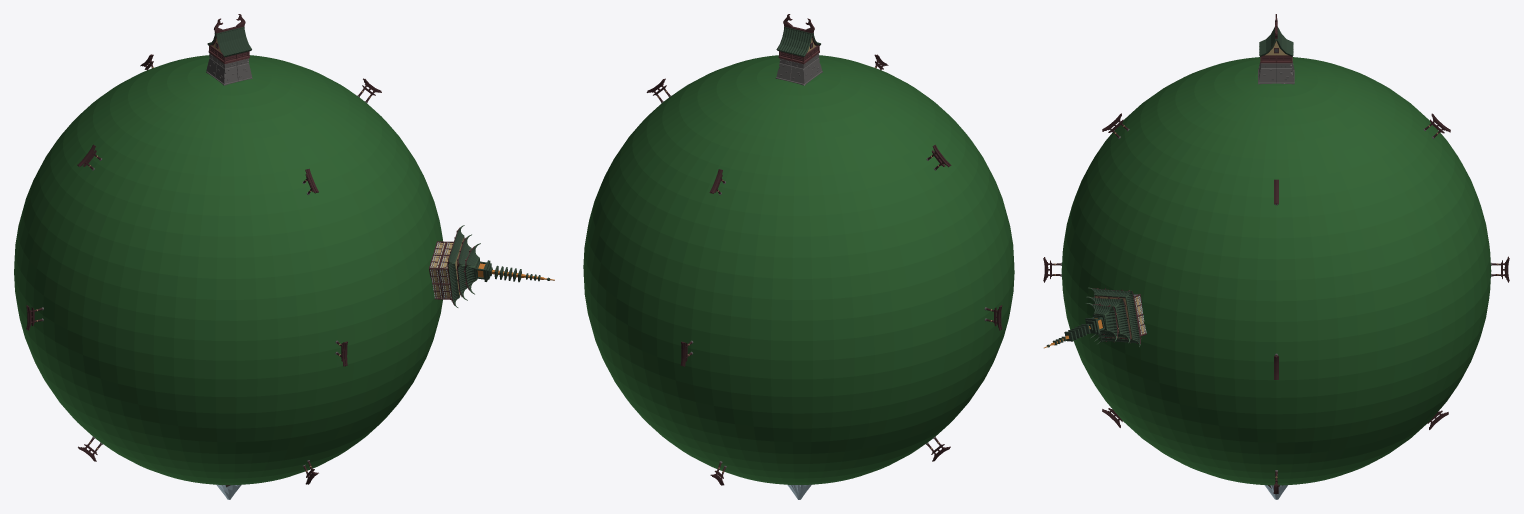
File: battle_planet.glb
3 renders of one model, left to right at view 1: azimuth 30°, elevation 25°; view 2: azimuth 150°, elevation 25°; view 3: azimuth 270°, elevation 25°, orthographic.
Visible parts, largest first — view 1: Sphere, SM_Bld_Tower_01, SM_Bld_Temple_Roof_Tip_01, SM_Bld_Temple_Roof_Large_01, SM_Bld_Snow_Temple_Base_Large_01; view 2: Sphere, SM_Bld_Tower_01; view 3: Sphere, SM_Bld_Tower_01, SM_Bld_Temple_Roof_Large_01, SM_Bld_Temple_Roof_Medium_01, SM_Bld_Temple_Roof_Tip_01, SM_Bld_Temple_Roof_Small_01.
Boxes of the visible parts, bbox=[...] form: Sphere: bbox=[14, 55, 443, 485]; SM_Bld_Tower_01: bbox=[206, 14, 252, 85]; SM_Bld_Temple_Roof_Tip_01: bbox=[473, 259, 554, 282]; SM_Bld_Temple_Roof_Large_01: bbox=[447, 225, 464, 307]; SM_Bld_Snow_Temple_Base_Large_01: bbox=[429, 241, 446, 299]; Sphere: bbox=[583, 55, 1014, 484]; SM_Bld_Tower_01: bbox=[775, 14, 822, 85]; Sphere: bbox=[1061, 57, 1491, 485]; SM_Bld_Tower_01: bbox=[1258, 14, 1294, 84]; SM_Bld_Temple_Roof_Large_01: bbox=[1088, 287, 1141, 346]; SM_Bld_Temple_Roof_Medium_01: bbox=[1086, 296, 1130, 343]; SM_Bld_Temple_Roof_Tip_01: bbox=[1044, 314, 1106, 348]; SM_Bld_Temple_Roof_Small_01: bbox=[1085, 303, 1118, 341].
Size of the model in its own units: 348 by 391 by 343.
Materials: 21 (20 with a texture image).
